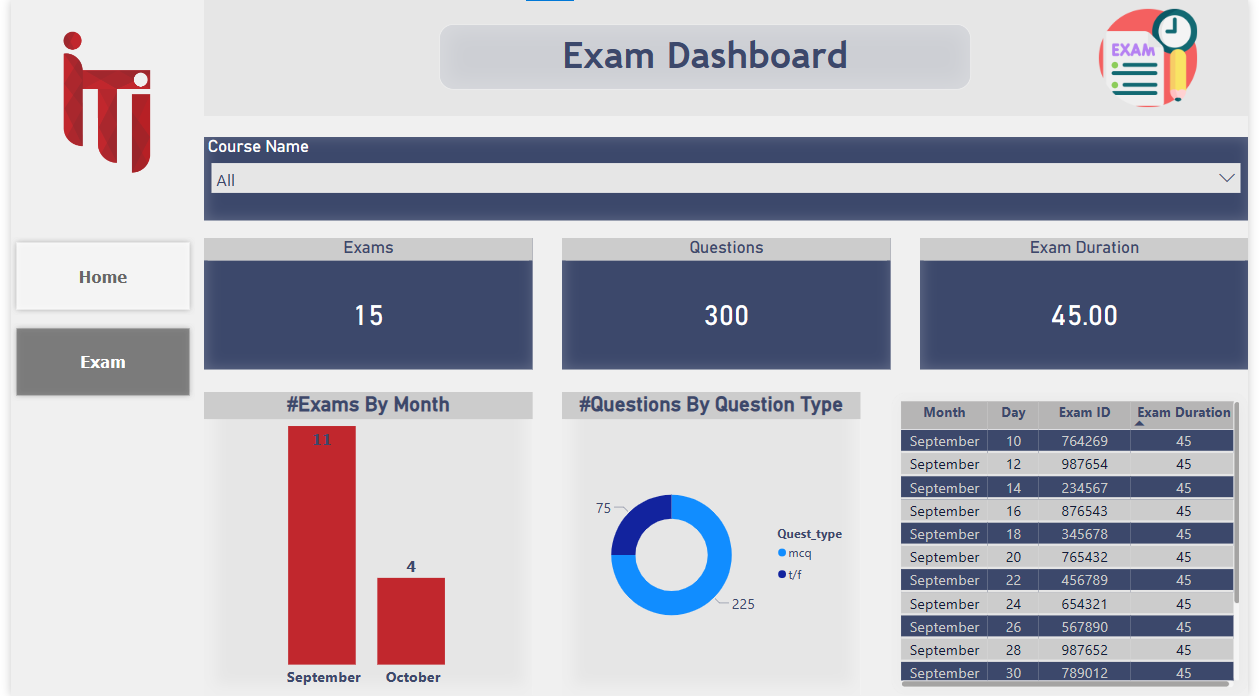

The page's visual inventory and layout, read from the dashboard file:
{"tool":"powerbi","page":{"name":"Exam","canvas":[1600,900],"ordinal":16},"visuals":[{"type":"shape","box":[250,0,1350,150],"z":0},{"type":"textbox","box":[553.3,31.7,688.3,85],"z":1000},{"type":"slicer","title":"Course Name","fields":{"Values":["Course.Crs_name"]},"box":[250,177.8,1350,108.1],"z":2000},{"type":"card","title":"Exams","fields":{"Values":["DAX.#Exams"]},"box":[250,307.1,425.2,170.1],"z":3000},{"type":"card","title":"Questions","fields":{"Values":["DAX.#Questions"]},"box":[712.4,307.1,425.2,170.1],"z":4000},{"type":"columnChart","title":"#Exams By Month","fields":{"Category":["Exam.Exam_date.Variation.Date Hierarchy.Month"],"Y":["DAX.#Exams"]},"box":[250,507.3,425.2,391.5],"z":5000},{"type":"donutChart","title":"#Questions By Question Type","fields":{"Y":["DAX.#Questions"],"Category":["Exam_Question.Quest_type"]},"box":[712.4,507.3,386.2,391.5],"z":6000},{"type":"image","box":[1401.7,6.7,136.7,136.7],"z":7000},{"type":"card","title":"Exam Duration","fields":{"Values":["Avg(Exam.Exam_duration)"]},"box":[1174.8,307.1,425.2,170.1],"z":8000},{"type":"tableEx","fields":{"Values":["Exam.Exam_date.Variation.Date Hierarchy.Month","Exam.Exam_date.Variation.Date Hierarchy.Day","Exam_Question.Exam_id","Exam.Exam_duration"]},"box":[1137.6,507.3,462.4,391.5],"z":9000},{"type":"pageNavigator","box":[0,306.7,238.3,213.3],"z":10000},{"type":"image","box":[10,10,231.7,218.3],"z":11000}]}

Visuals, with their boxes on the page's 1600x900 design canvas (x1, y1, x2, y2). These are canvas units, not pixel positions in the 1259x696 screenshot, which may show the page scaled, cropped or inside an application window:
shape: (250,0,1600,150)
textbox: (553,32,1242,117)
"Course Name" slicer: (250,178,1600,286)
"Exams" card: (250,307,675,477)
"Questions" card: (712,307,1138,477)
"#Exams By Month" columnChart: (250,507,675,899)
"#Questions By Question Type" donutChart: (712,507,1099,899)
image: (1402,7,1538,143)
"Exam Duration" card: (1175,307,1600,477)
tableEx - Exam.Exam_date.Variation.Date Hierarchy.Month x Exam.Exam_date.Variation.Date Hierarchy.Day: (1138,507,1600,899)
pageNavigator: (0,307,238,520)
image: (10,10,242,228)
